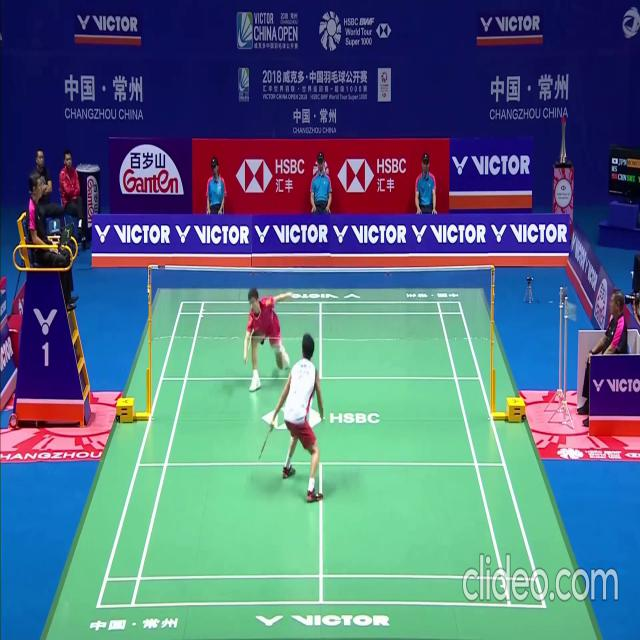Shuttlecock: (216, 181, 221, 189)
